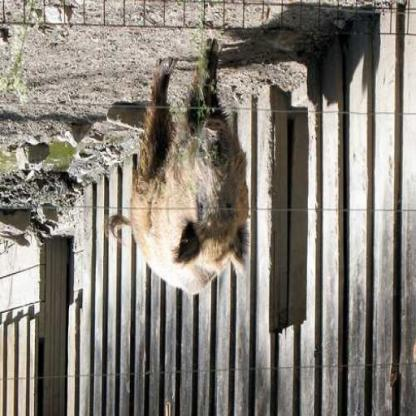boar: (115, 34, 262, 314)
